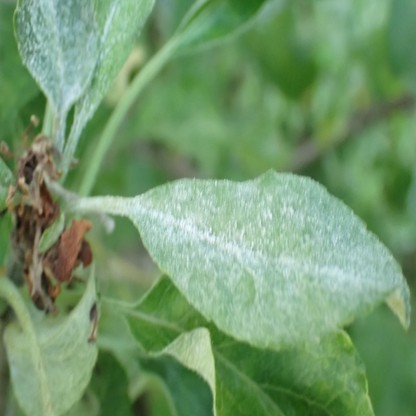powder: (128, 170, 410, 349), (12, 1, 114, 114), (73, 1, 155, 122)
